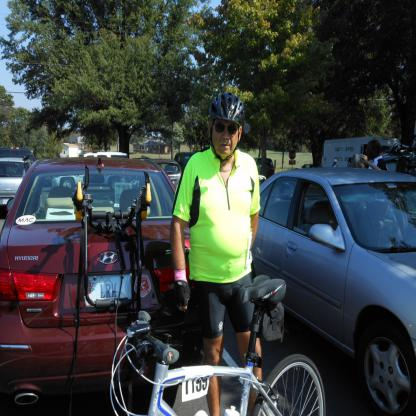Car: (0, 150, 191, 408), (236, 144, 416, 416), (0, 140, 416, 216)
